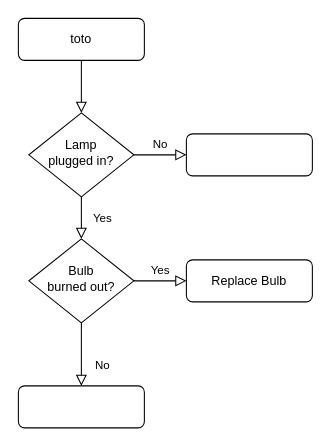
Some shapes in this 331 by 446 pixel diagram are drawn without their labels. Here are the shapes that lost their labels. From the top down, the centre of each, then its label:
(x=248, y=154): Plug in lamp
(x=80, y=406): Repair Lamp
